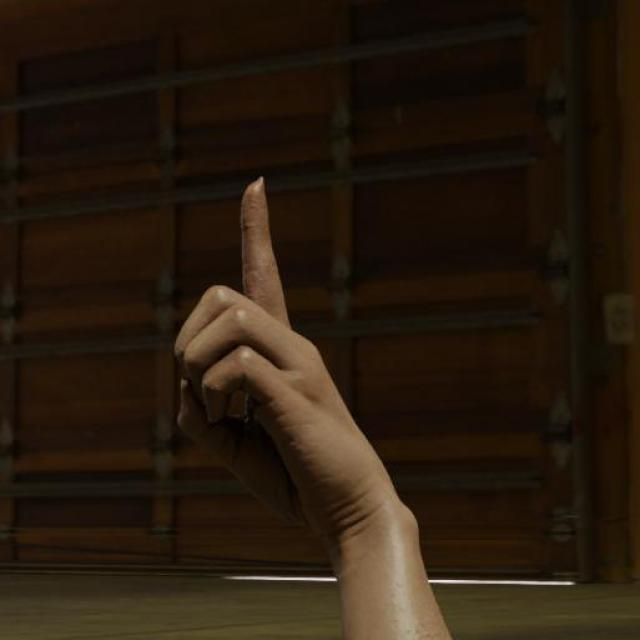D: (165, 171, 402, 527)
